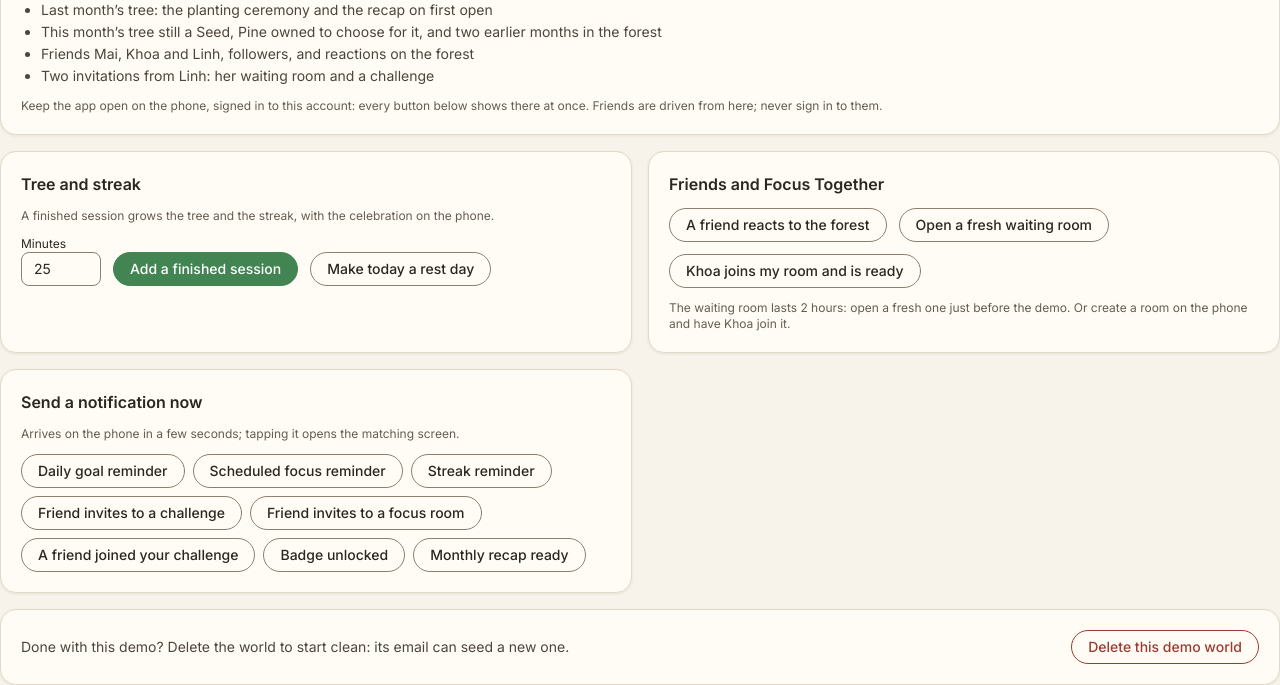
Test: demo tools (DM.2) › deletes a demo world after a confirmation with a reason (2026-10-23)
This screenshot has width=1280, height=685.
(page scrolled)
Step 1. Click the button "Delete this demo world" → x=1165, y=647, box [1071,630,1259,664]
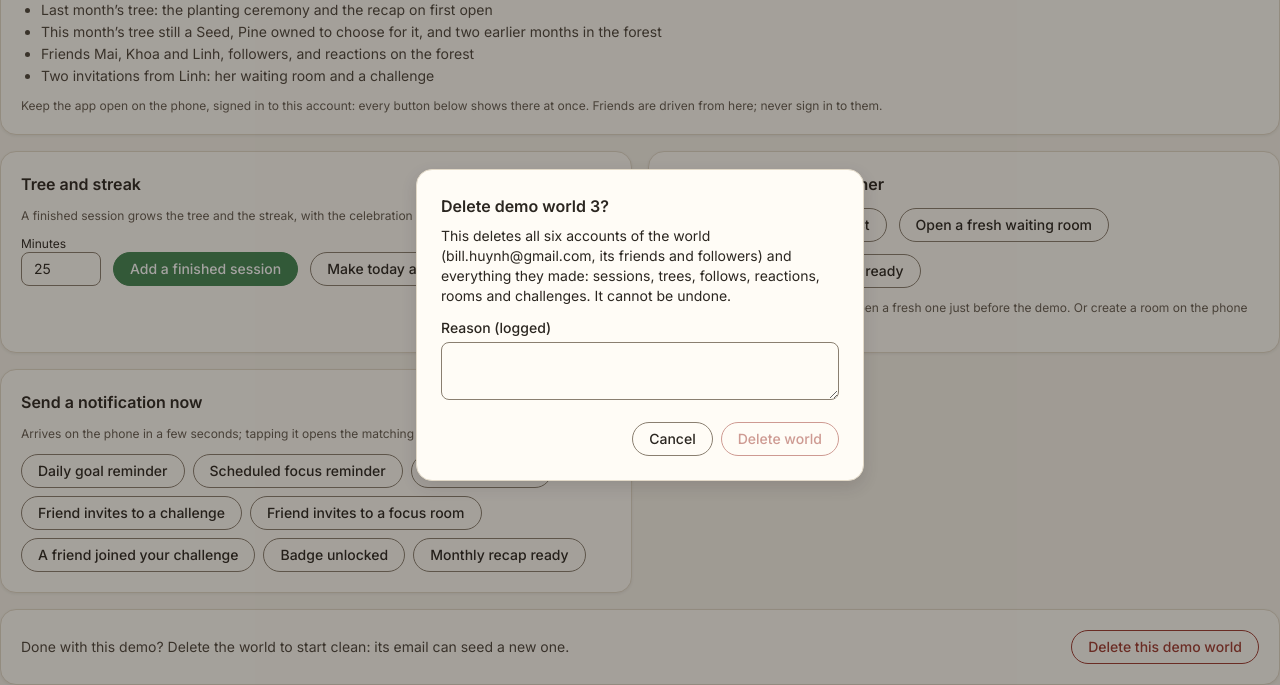
Expected: the text "all six accounts" is shown, [441,227,820,304]
Step 2. Type "Reset after the demo" into the text box labelled "Reason (logged)" → x=640, y=371, box [441,342,839,400]
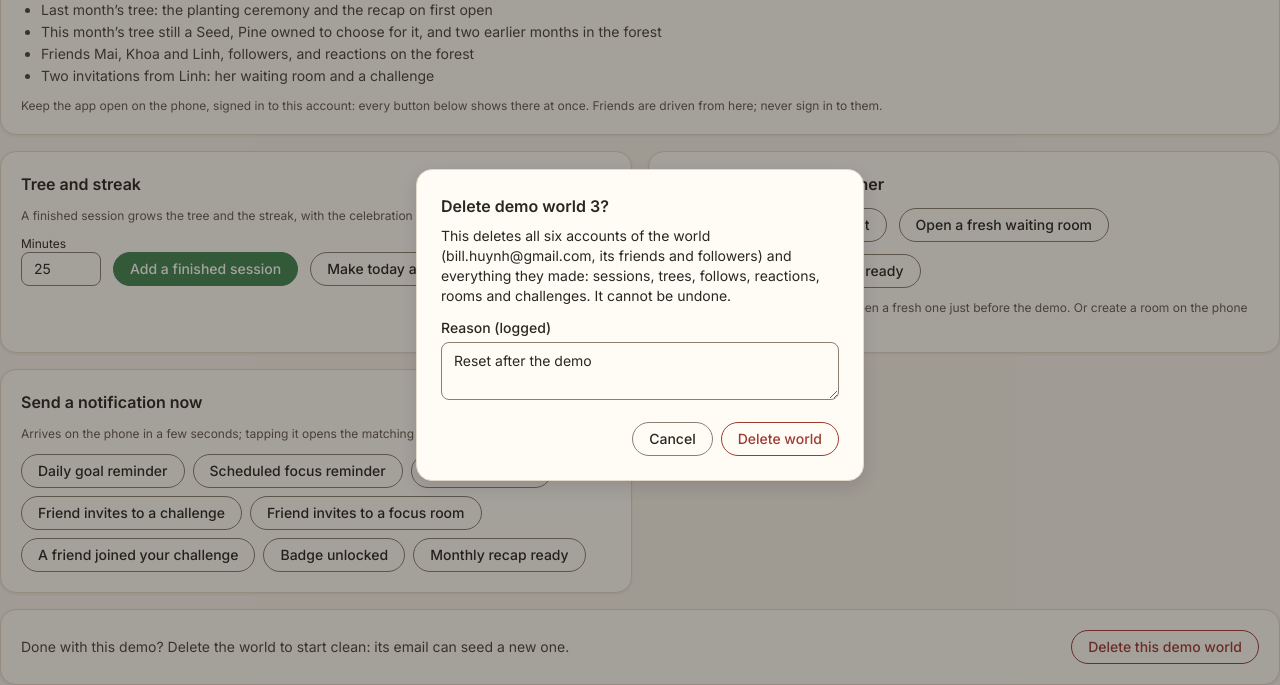
Step 3. Click the button "Delete world" → x=780, y=439, box [721,422,839,456]
(page scrolled)
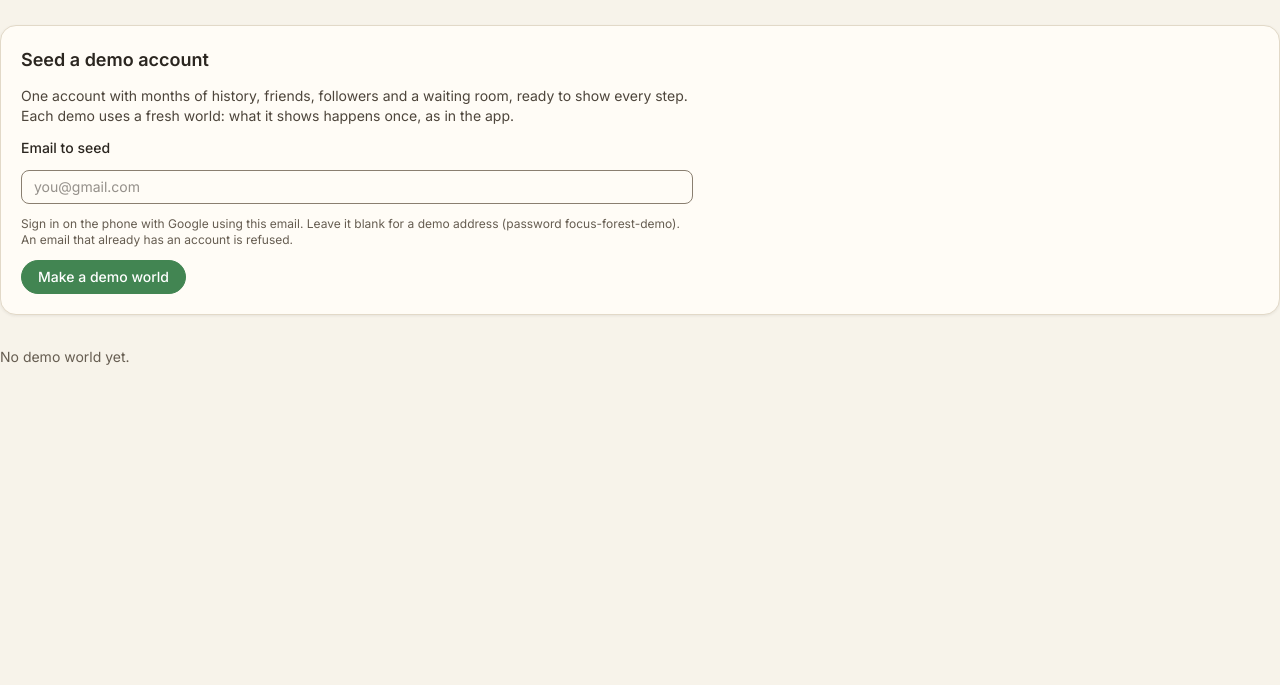
Expected: the text "No demo world yet." is shown, [0,348,130,365]
